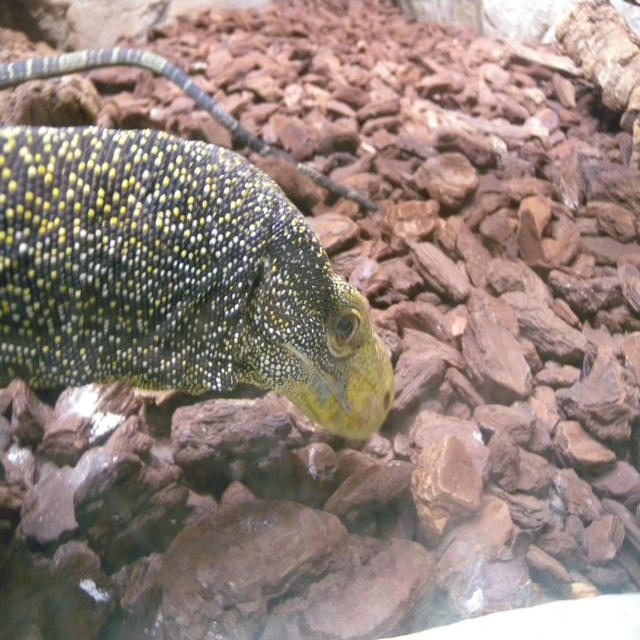Lizard: (10, 91, 405, 492)
